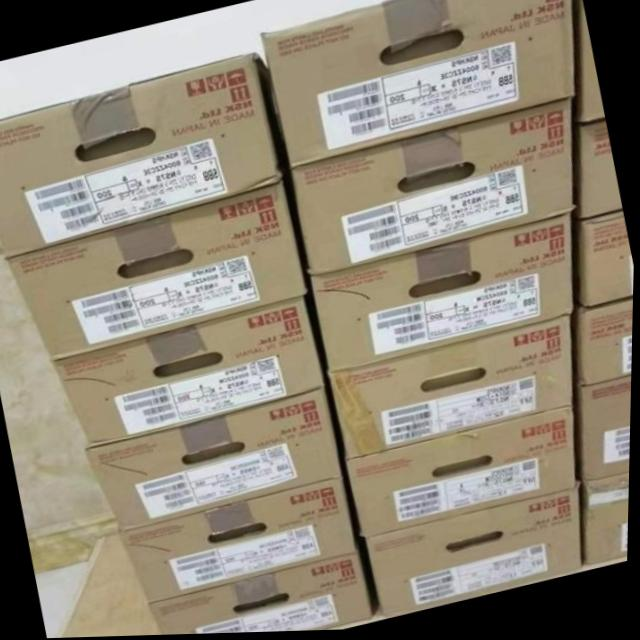box: (0, 54, 286, 260), (8, 180, 308, 360), (260, 0, 575, 169), (292, 100, 575, 279), (313, 214, 575, 374), (56, 296, 327, 445), (88, 392, 348, 534), (329, 318, 574, 462), (120, 479, 363, 603), (347, 410, 576, 541), (367, 491, 582, 567), (153, 551, 368, 616), (576, 378, 633, 486), (575, 214, 635, 313), (574, 300, 635, 390), (574, 125, 623, 224), (571, 0, 606, 131), (587, 476, 631, 515)
